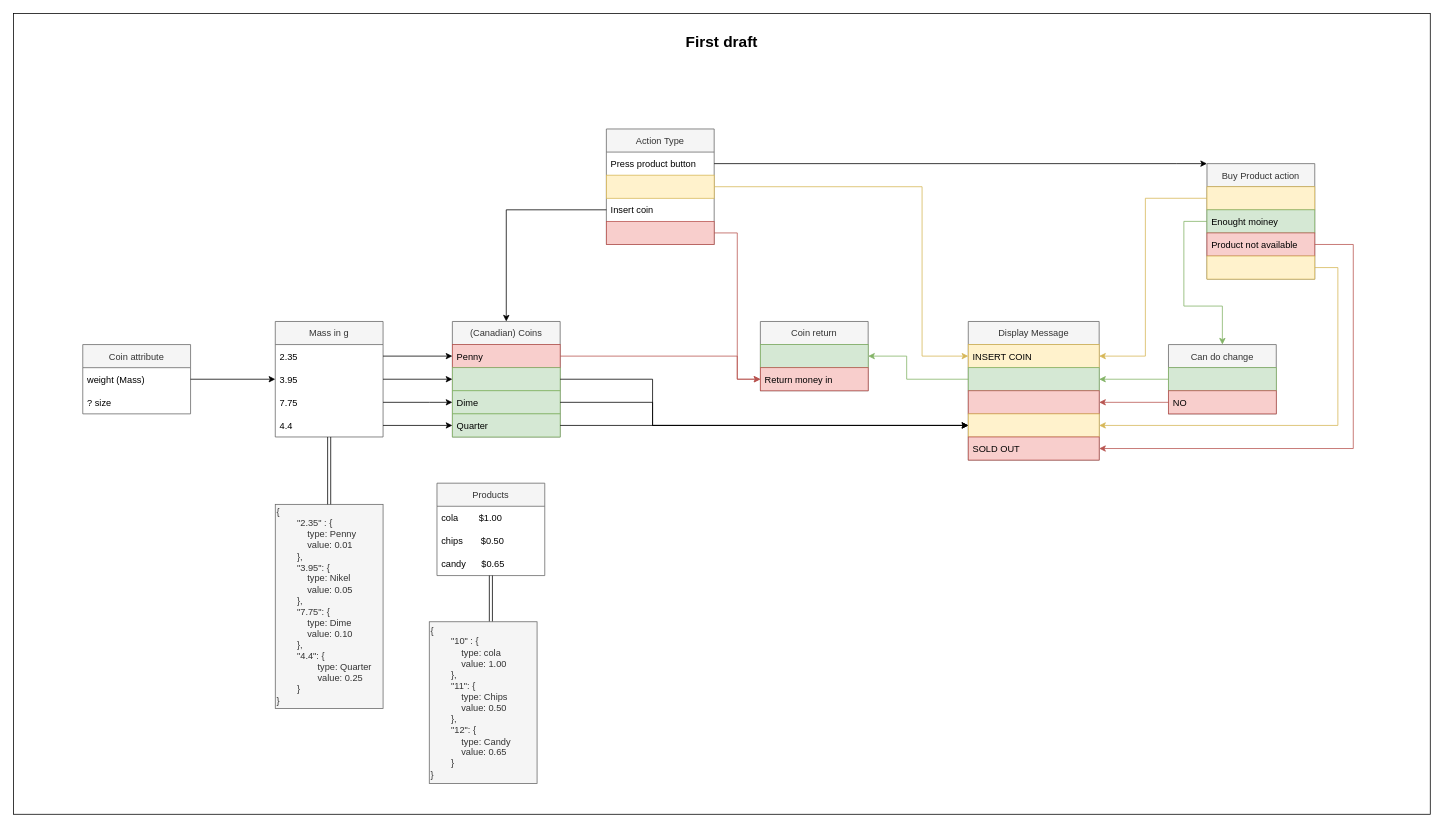
Some shapes in this 1444 by 828 pixel diagram are drawn without their labels. Each missing label, with the centre of its shape:
EXACT CHANGE ONLY: the point at 1033,402
Initial State (no coin): the point at 660,186
Nikel: the point at 506,379
No money: the point at 1260,198
Not enought money: the point at 1260,267
Press coin return button: the point at 660,232
PRICE: the point at 1033,425
Return money diff: the point at 814,356
THANK YOU: the point at 1033,379
YES: the point at 1222,379
